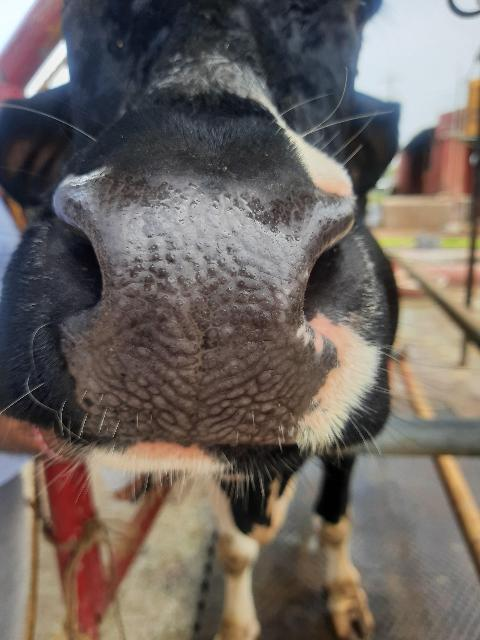Muzzle: (66, 177, 330, 445)
